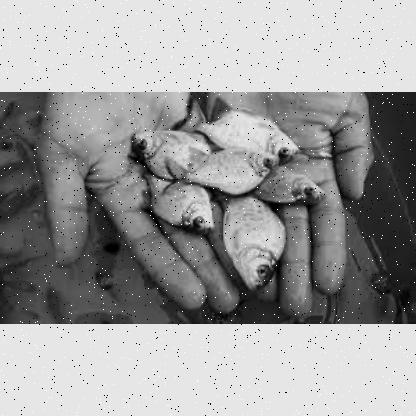ikan-pacu: (224, 198, 286, 288), (205, 108, 303, 152), (186, 145, 276, 191), (142, 176, 218, 228), (133, 127, 205, 168), (260, 162, 326, 200)
